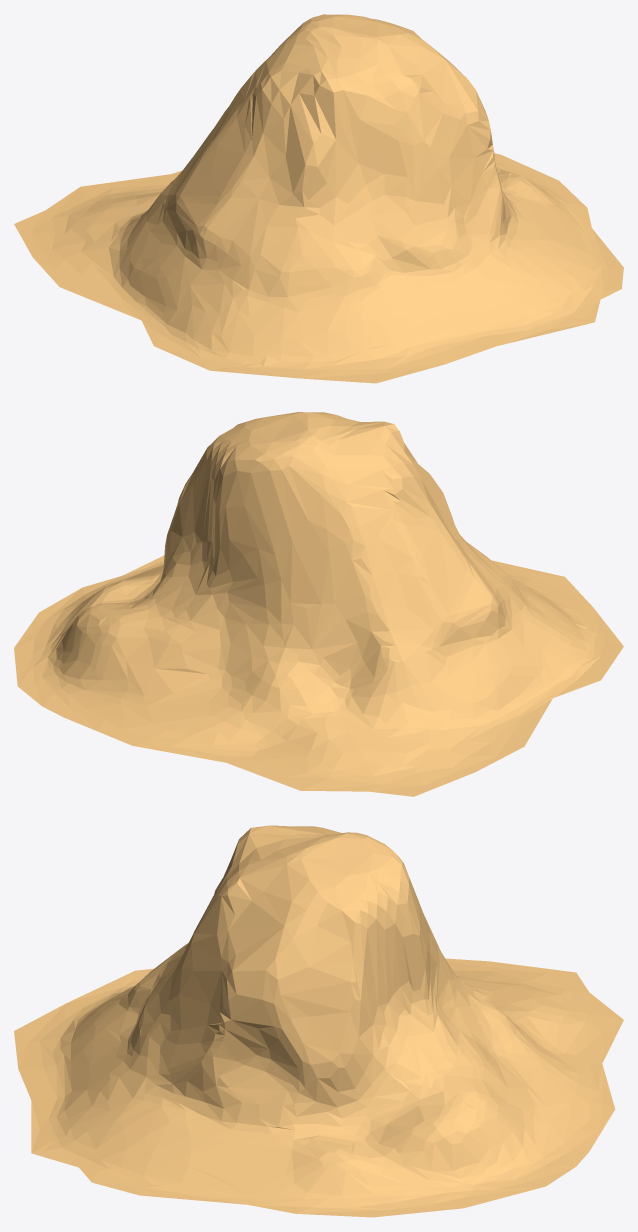
The model's file is Terrain 10.FBX.
3 renders of one model, top to bottom at view 1: azimuth 30°, elevation 25°; view 2: azimuth 150°, elevation 25°; view 3: azimuth 270°, elevation 25°, orthographic. The views are drawn at different scales.
Visible parts, largest first — view 1: plane; view 2: plane; view 3: plane.
Boxes of the visible parts, x1,y1,x2,y2 form: plane: [14, 14, 623, 383]; plane: [14, 412, 623, 796]; plane: [14, 825, 623, 1217].
Bounding box in the file's own units: 106 × 46.78 × 104.
